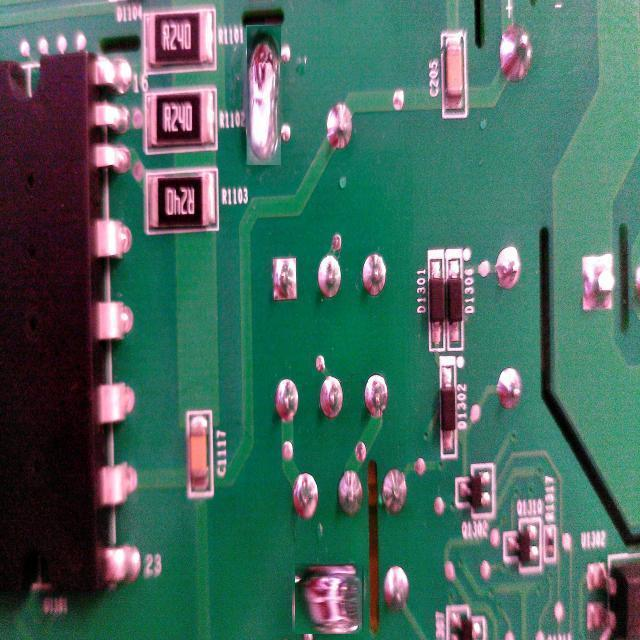Short_circuit: (246, 26, 281, 166), (294, 564, 363, 633)
